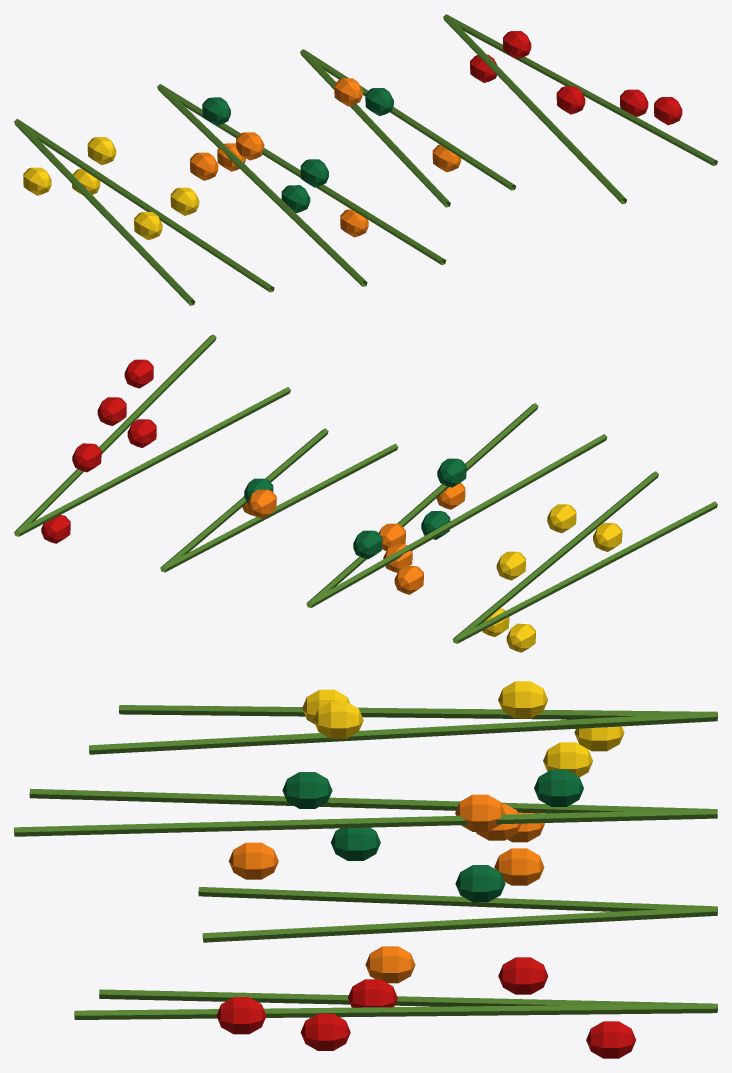
File: r10c0_stems.obj
3 views of the same model, one above another, from view 1: azimuth 30°, elevation 25°; view 2: azimuth 150°, elevation 25°; view 3: azimuth 270°, elevation 25° (orthographic). The views are drawn at different scales.
Visible parts, largest first — view 1: r10c0_stems; view 2: r10c0_stems; view 3: r10c0_stems.
Boxes of the visible parts, bbox=[...] form: r10c0_stems: bbox=[14, 14, 717, 305]; r10c0_stems: bbox=[14, 334, 717, 652]; r10c0_stems: bbox=[14, 681, 717, 1058].
Size of the model in its own units: 1.71 by 0.2256 by 1.4.
